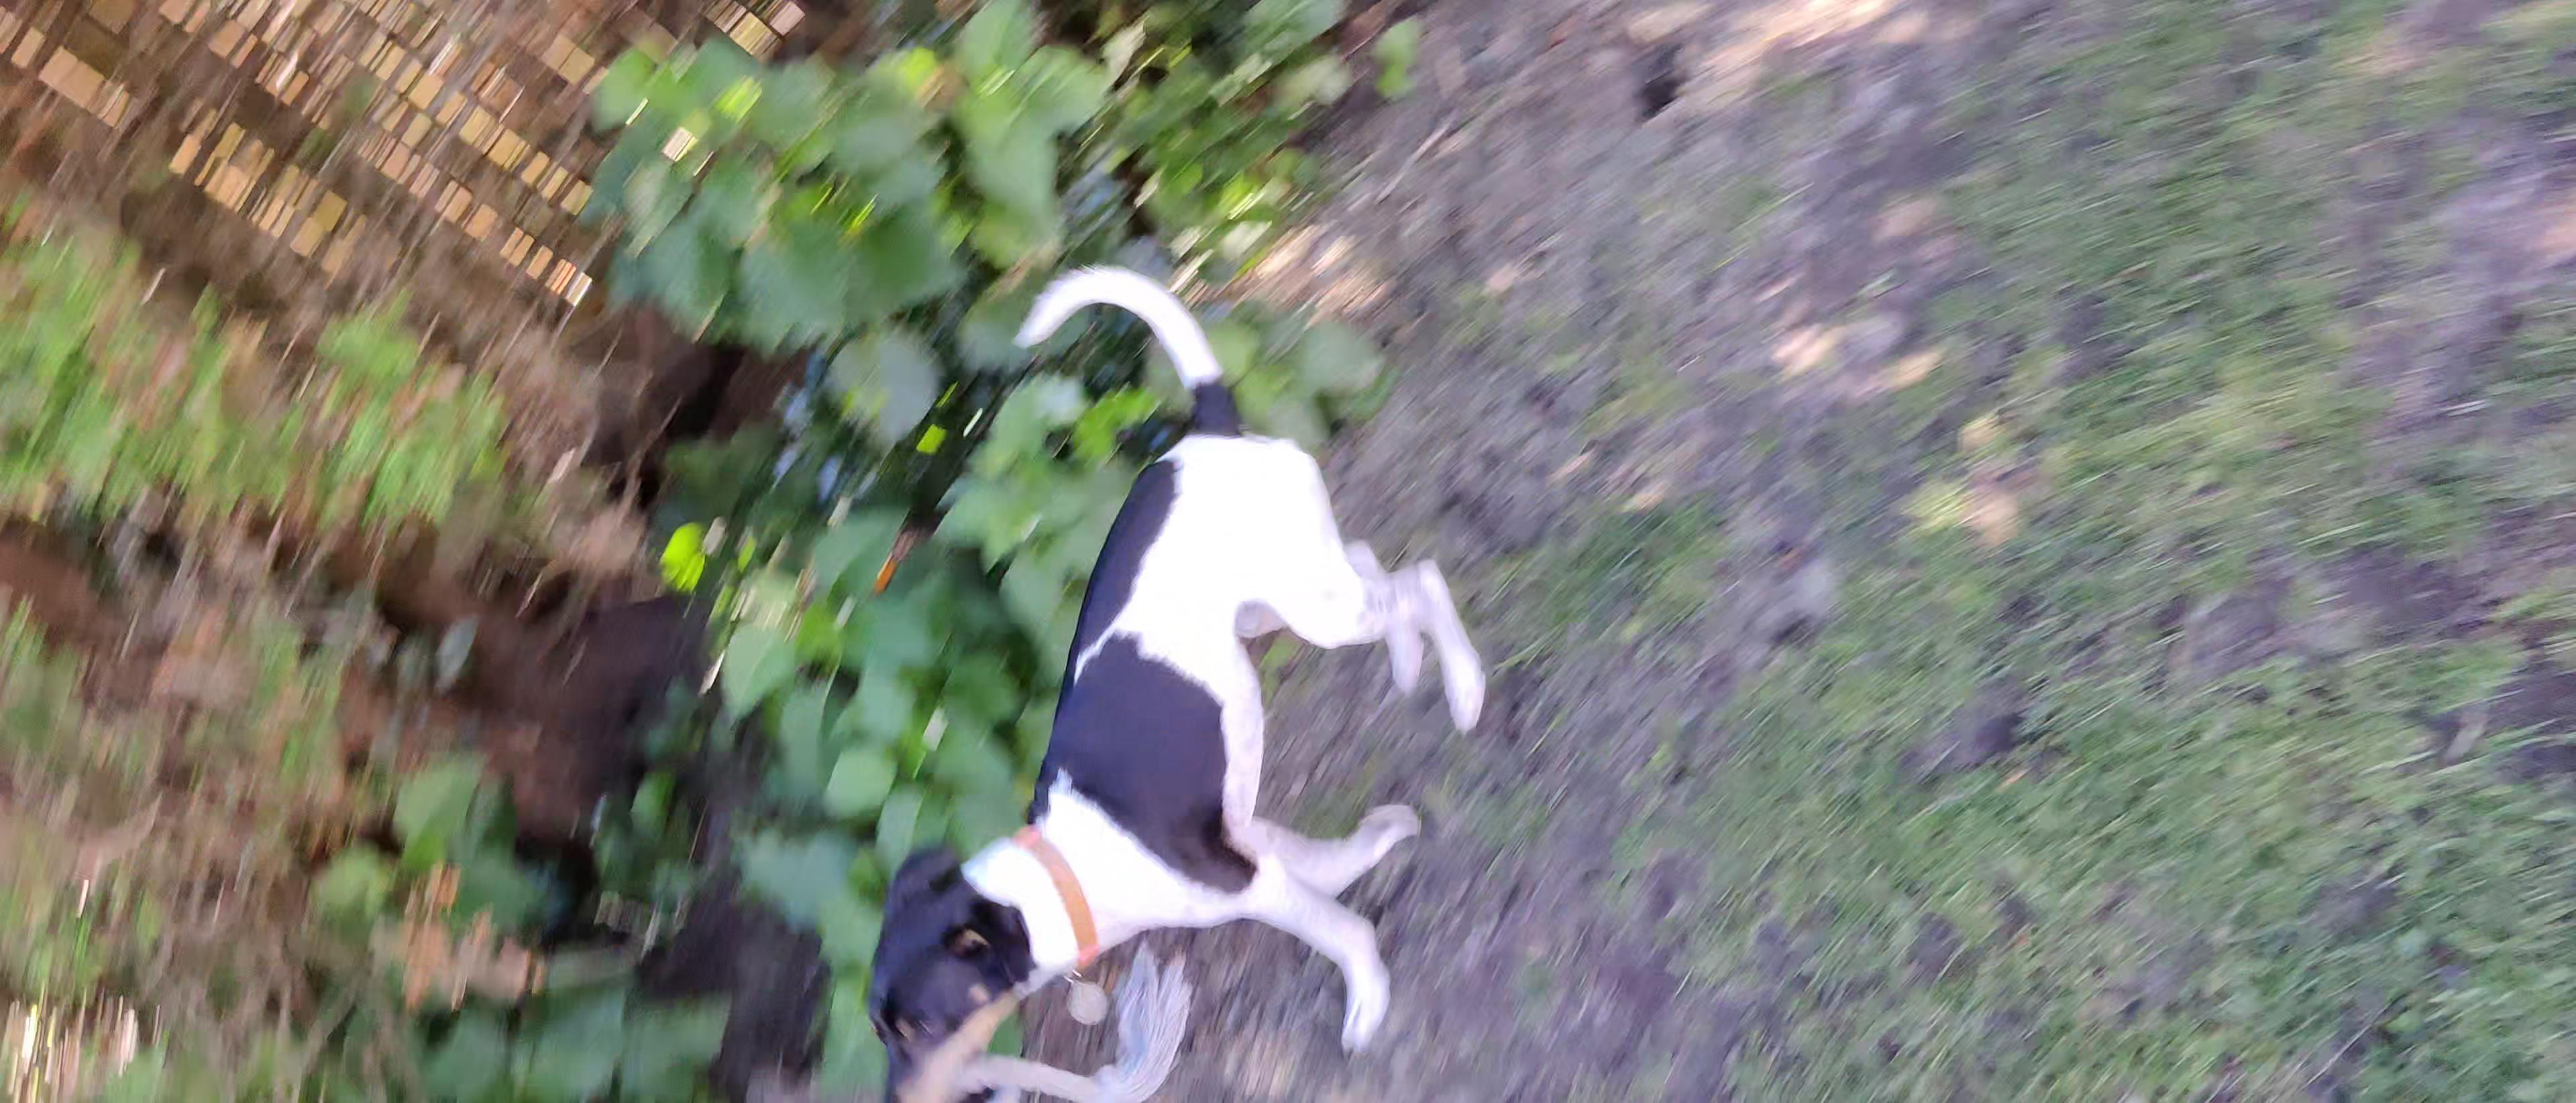Dog: (849, 248, 1511, 1103)
